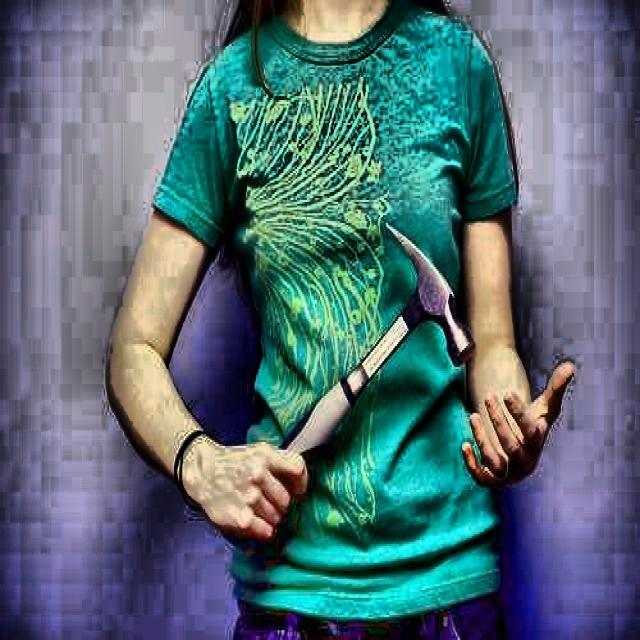hammer: (252, 224, 478, 514)
